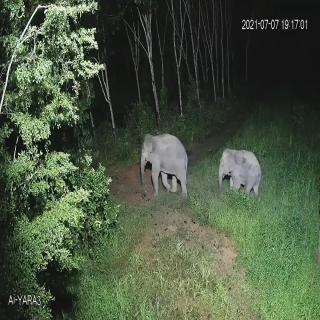Elephant: (140, 130, 196, 208), (214, 141, 266, 202)
